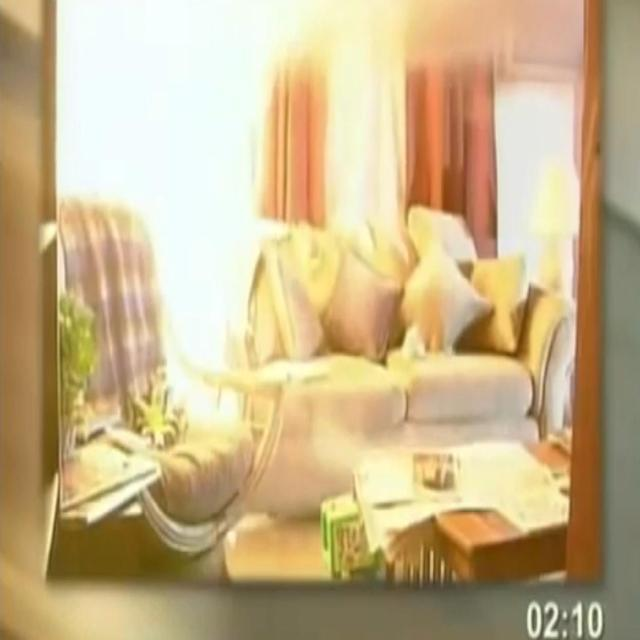smoke: (108, 0, 274, 421)
